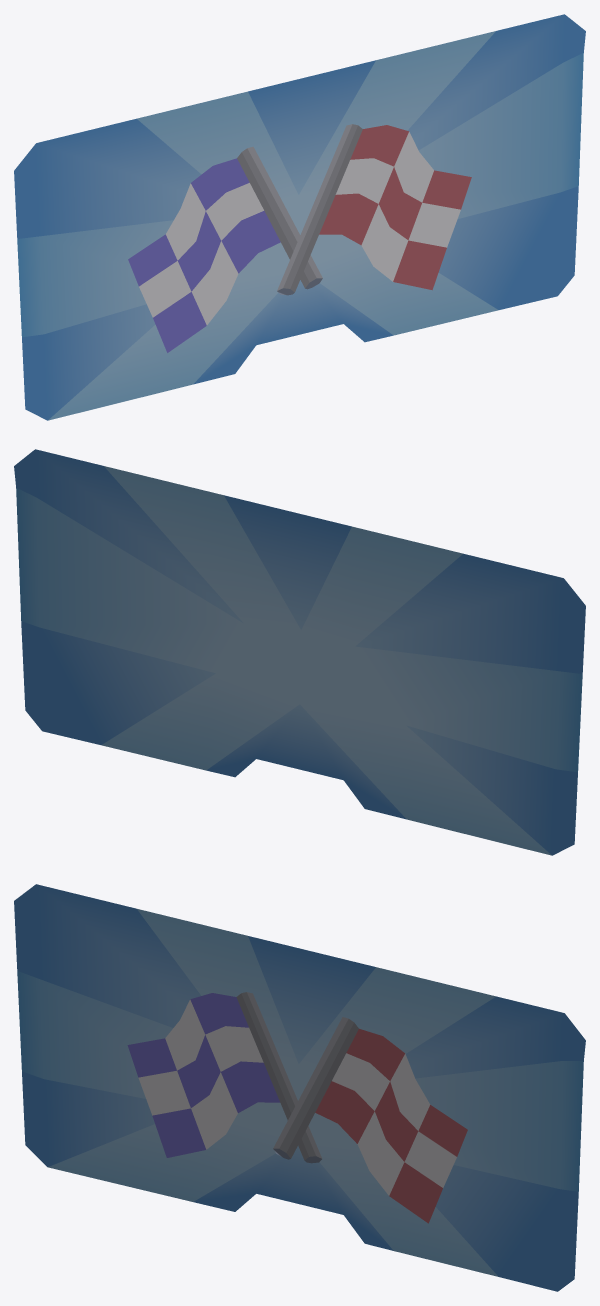
Rendered from checkeredFlagScreen.glb.
The picture shows the model from 3 angles, top to bottom: view 1: azimuth 30°, elevation 25°; view 2: azimuth 150°, elevation 25°; view 3: azimuth 330°, elevation 25°; orthographic projection.
Parts seen in each view (by area): view 1: checkeredFlagScreen; view 2: checkeredFlagScreen; view 3: checkeredFlagScreen.
Boxes of the visible parts, x1,y1,x2,y2 form: checkeredFlagScreen: [14, 14, 585, 420]; checkeredFlagScreen: [14, 449, 585, 855]; checkeredFlagScreen: [14, 884, 585, 1291].
Size of the model in its own units: 2.24 by 1.05 by 0.0133.
